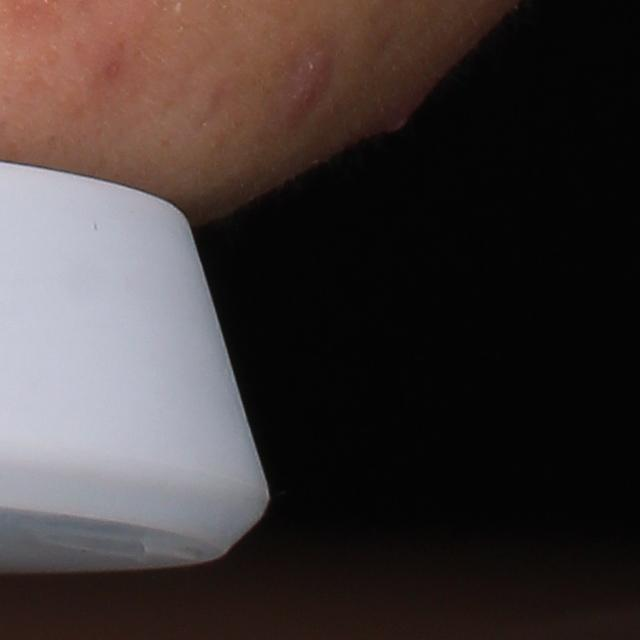papule: (282, 48, 335, 116)
